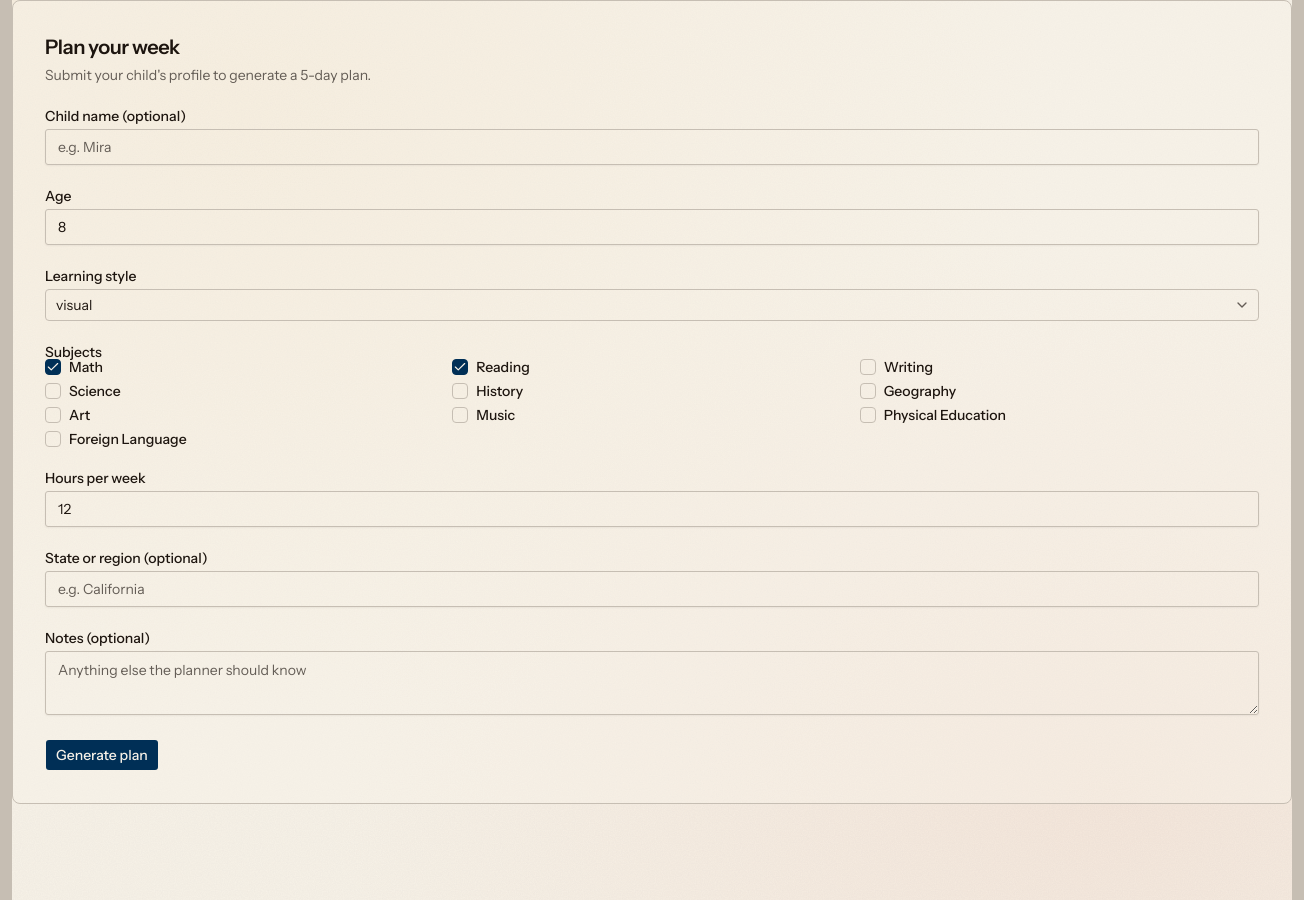
Test: ClassMapFlow — live (non-demo) API path › happy path: 200 response is parsed and rendered
Click the button "Generate plan" at coordinates (102, 755), box x1=45 y1=739 x2=159 y2=771
(page scrolled)
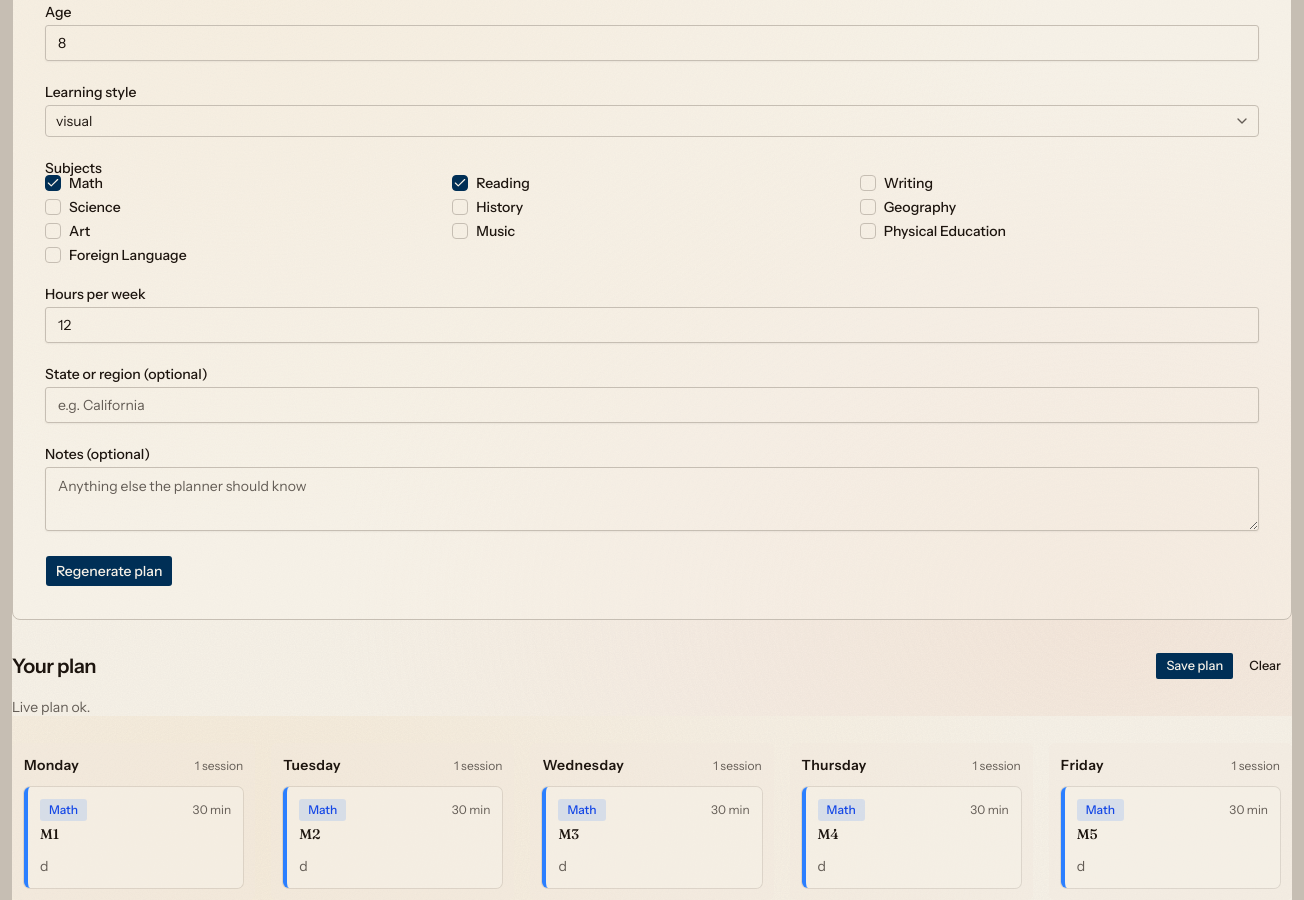
Expected: the element named "Weekly lesson plan" is shown, x1=12 y1=696 x2=1292 y2=899
